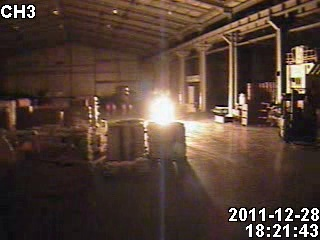fire: (148, 90, 176, 126)
